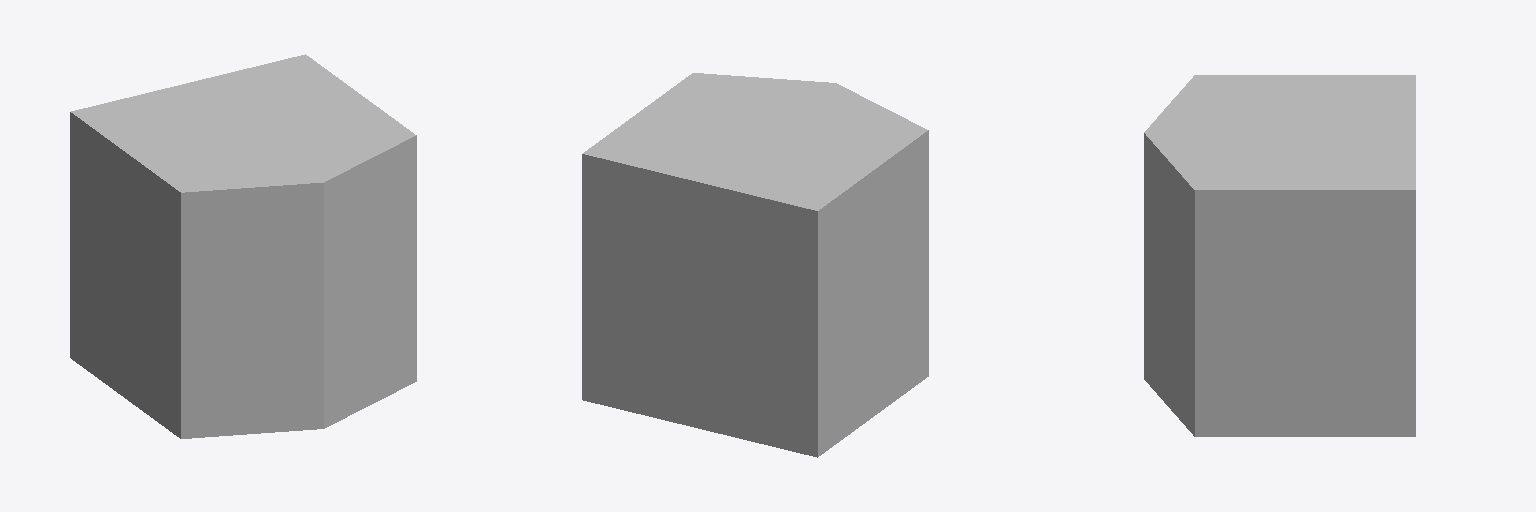
The model's file is badge_001.obj.
3 renders of one model, left to right at view 1: azimuth 30°, elevation 25°; view 2: azimuth 150°, elevation 25°; view 3: azimuth 270°, elevation 25°, orthographic.
Parts seen in each view (by area): view 1: Cube_Cube.001; view 2: Cube_Cube.001; view 3: Cube_Cube.001.
Boxes of the visible parts, x1=… form: Cube_Cube.001: x1=70, y1=54, x2=416, y2=438; Cube_Cube.001: x1=582, y1=73, x2=928, y2=457; Cube_Cube.001: x1=1144, y1=75, x2=1415, y2=436.
Size of the model in its own units: 0.0944 by 0.0944 by 0.0944.